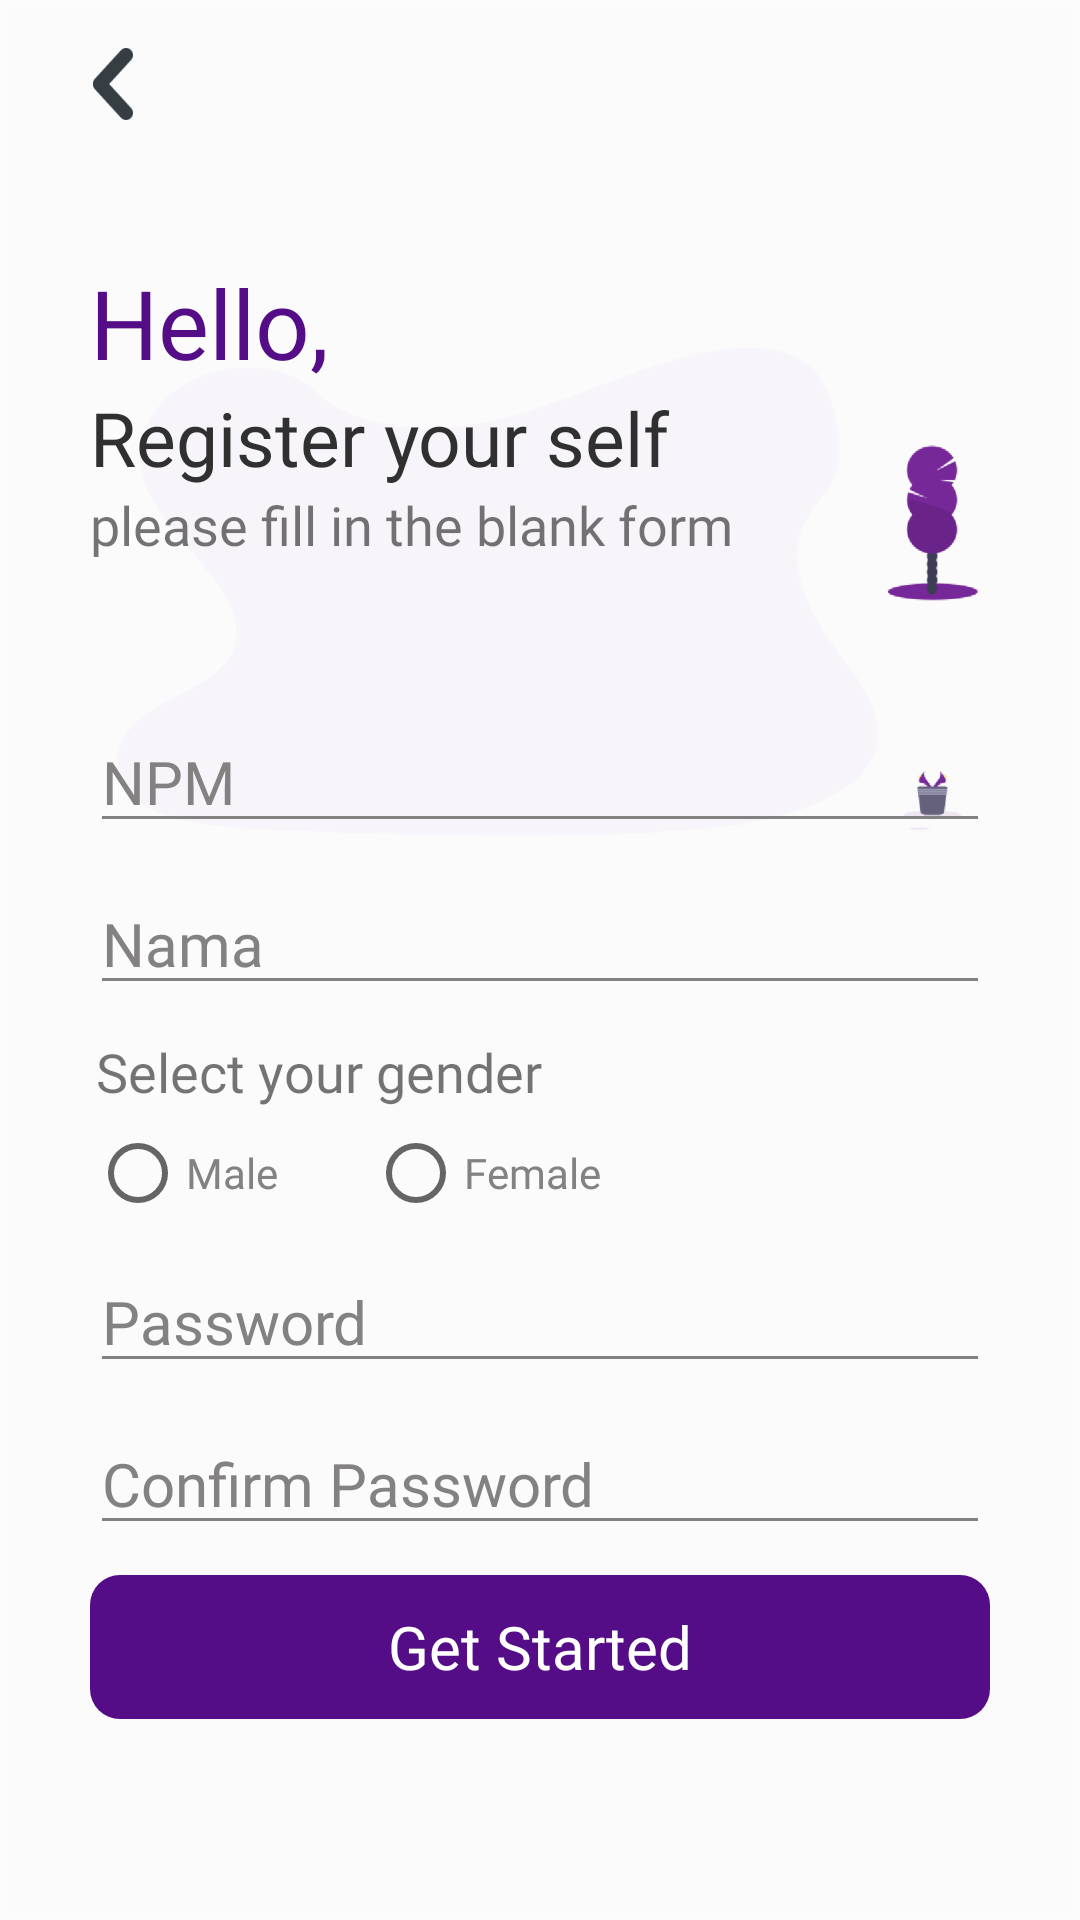

Icon bounding boxes for this 1080 × 1920 phone screenshot, format (left=x1, top=y1, right=x2, bottom=y2):
back: (left=93, top=48, right=133, bottom=120)
